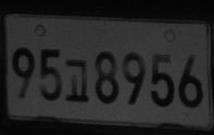5: (149, 53, 176, 107), (38, 48, 63, 101)
6: (178, 54, 204, 107)
8: (93, 49, 120, 105)
9: (121, 50, 146, 106), (11, 46, 36, 98)
고: (64, 58, 89, 102)
